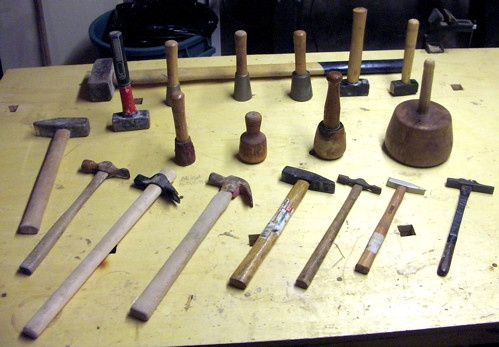hammer: (19, 165, 187, 344), (127, 169, 255, 331), (222, 165, 337, 292), (82, 57, 415, 99), (6, 158, 128, 268), (285, 175, 379, 296), (349, 172, 429, 288), (17, 113, 90, 233), (428, 175, 499, 285), (95, 32, 155, 136)
